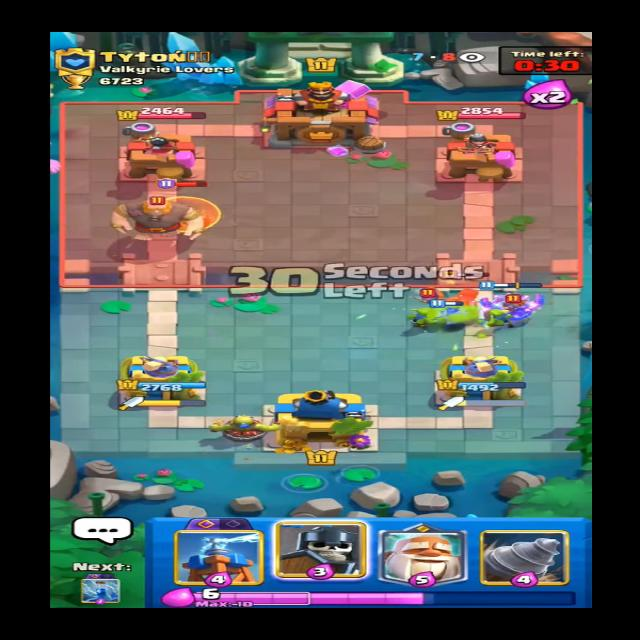Evowizard: (158, 180, 227, 228)
Giant: (107, 193, 209, 240)
Nightwitch: (444, 268, 485, 310)
